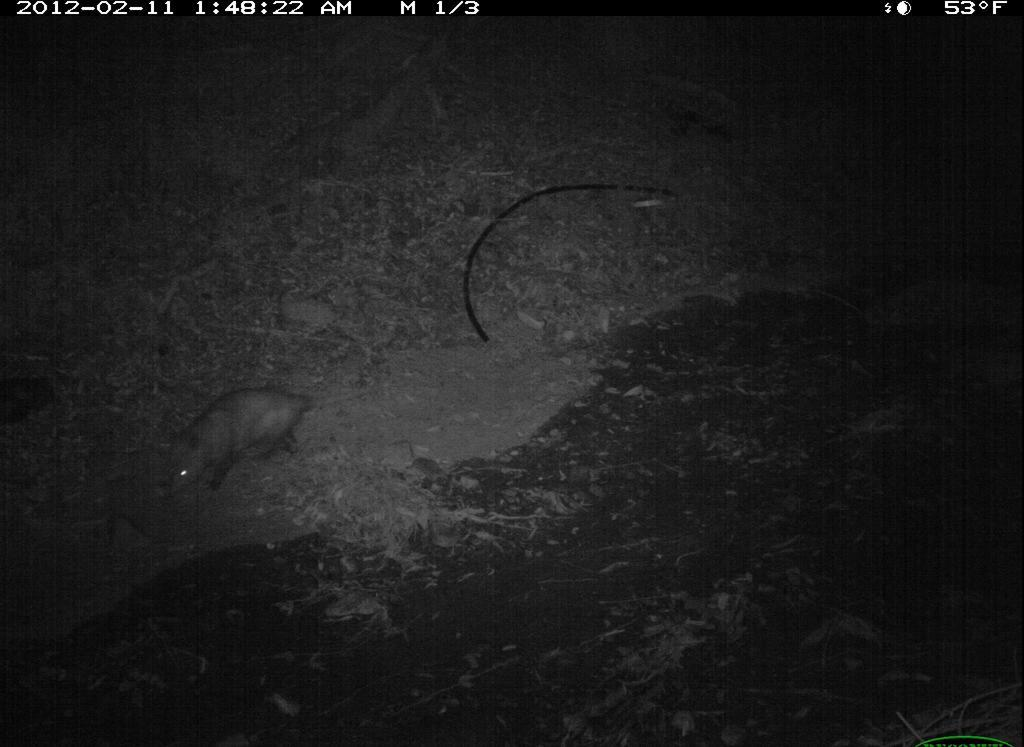opossum: (149, 377, 390, 506)
